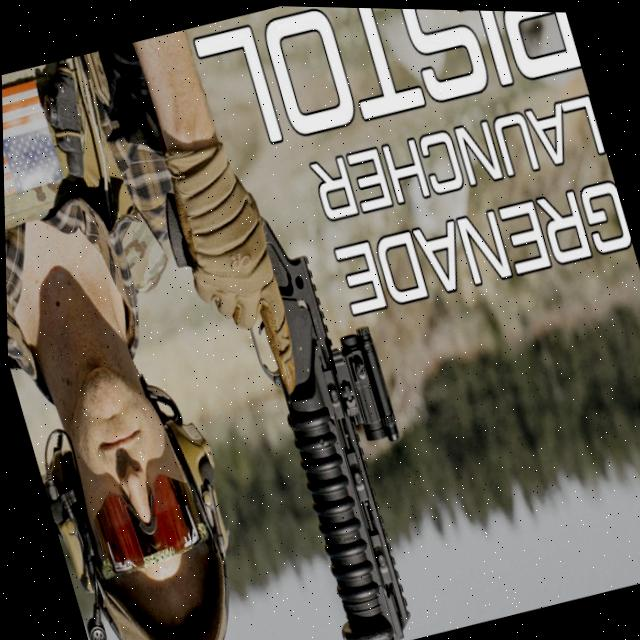rocket: (153, 150, 454, 640)
